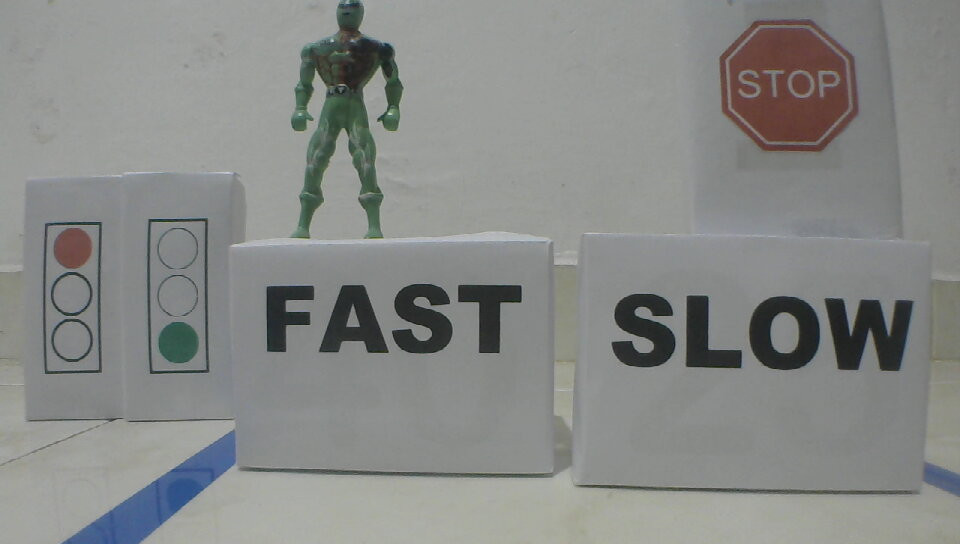Fast: (263, 282, 527, 358)
Green Traffic Light: (145, 216, 212, 378)
Person: (282, 1, 405, 238)
Red Traffic Light: (40, 221, 105, 376)
Slow: (610, 291, 919, 374)
Stop Sign: (715, 16, 863, 153)
